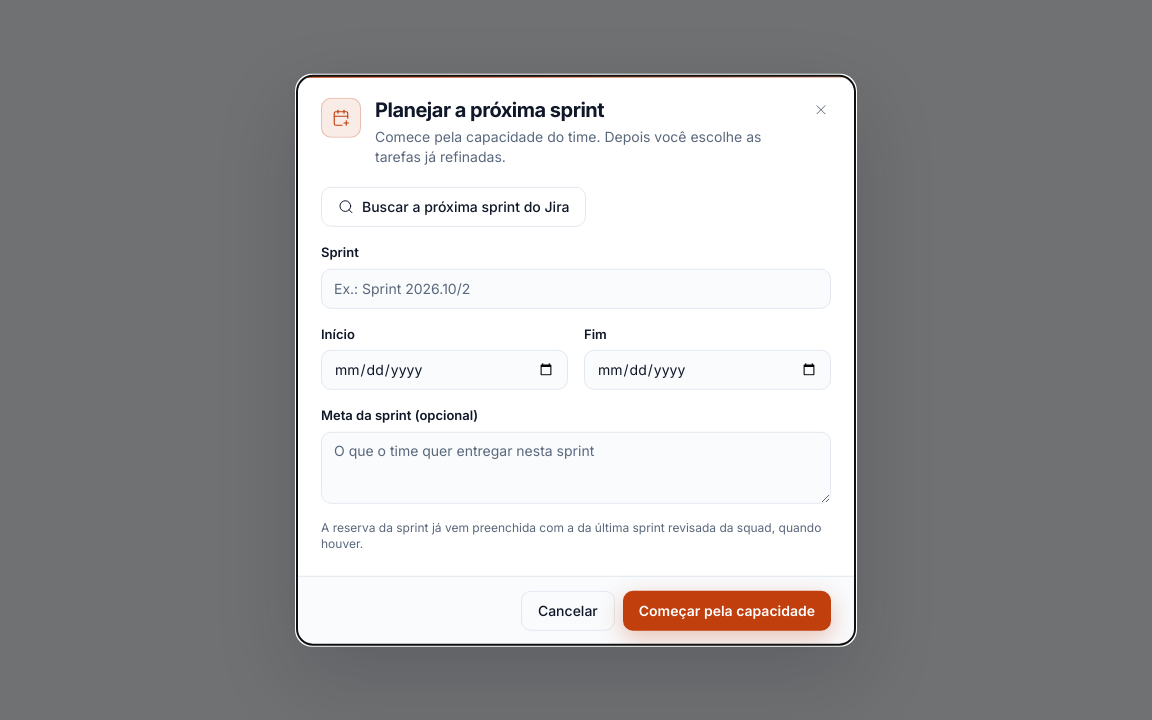
Criar plano › 409 (a sprint já tem plano) mostra a mensagem do servidor
The width and height of the screenshot is (1152, 720).
Type "S" into the field with placeholder "Ex.: Sprint 2026.10/2".
click(576, 288); type("S")  # box [321,268,831,308]
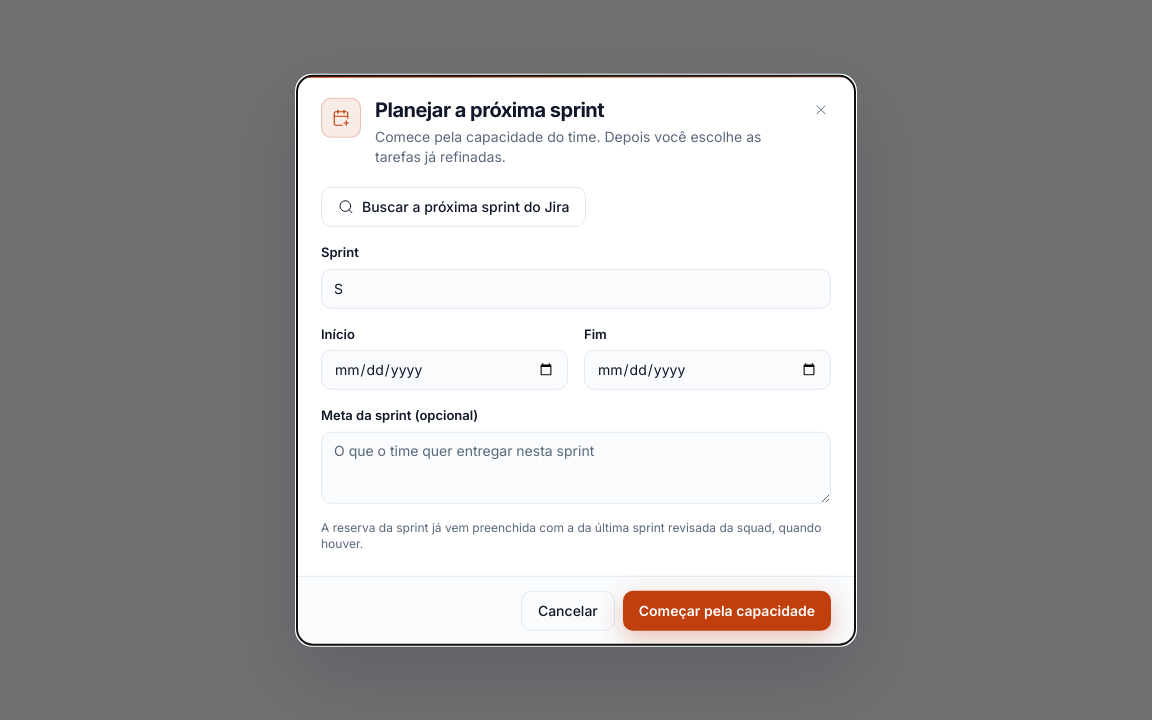
Type "2026-10-21" into the date field labelled "Início".
click(444, 370); type("2026-10-21")  # box [321,350,568,390]
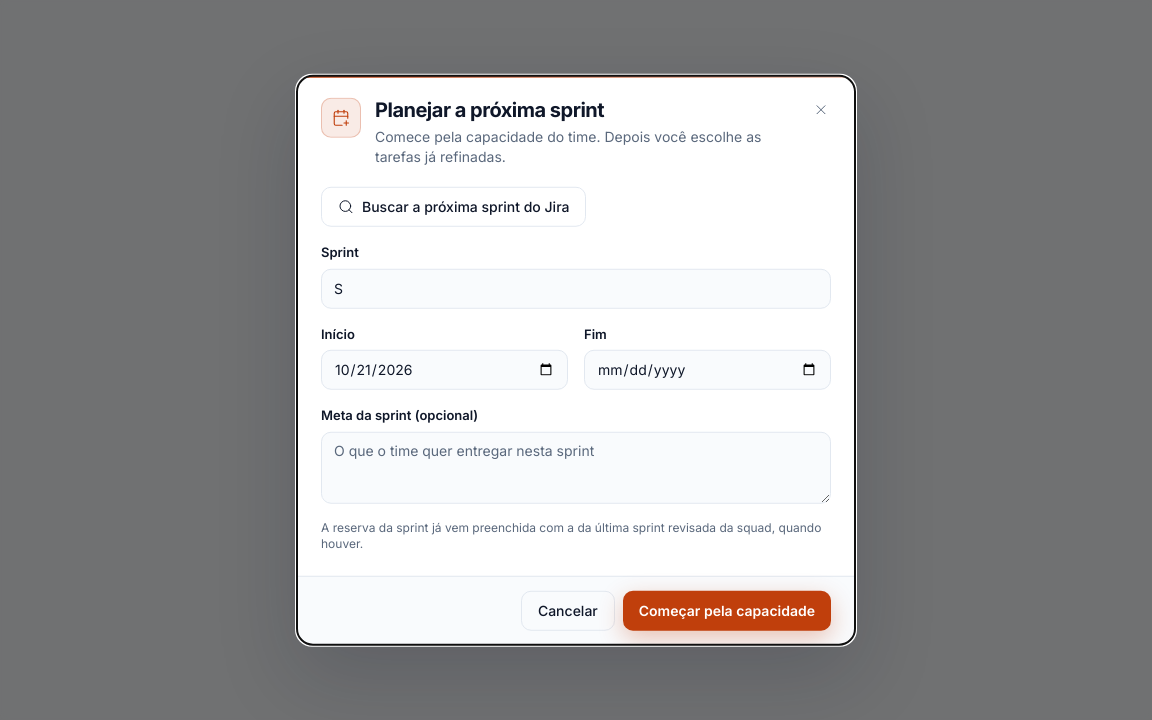
Type "2026-11-03" into the date field labelled "Fim".
click(708, 370); type("2026-11-03")  # box [584,350,831,390]
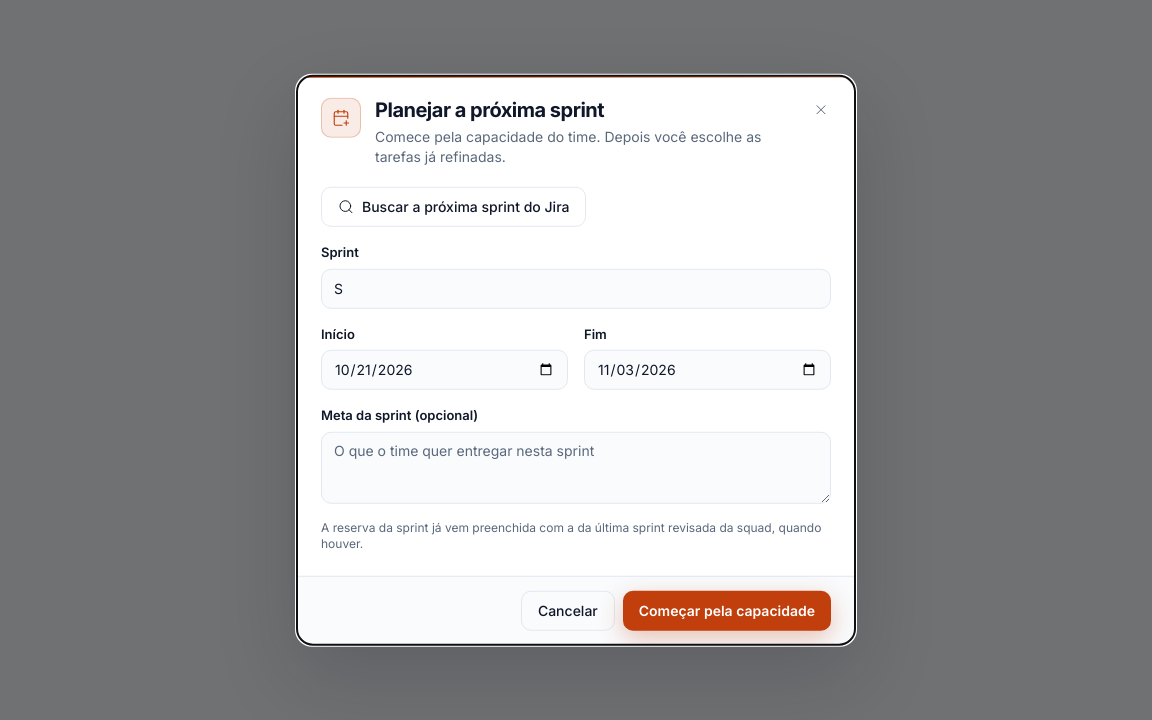
Click the button "Começar pela capacidade".
click(727, 610)  # box [623,590,831,630]
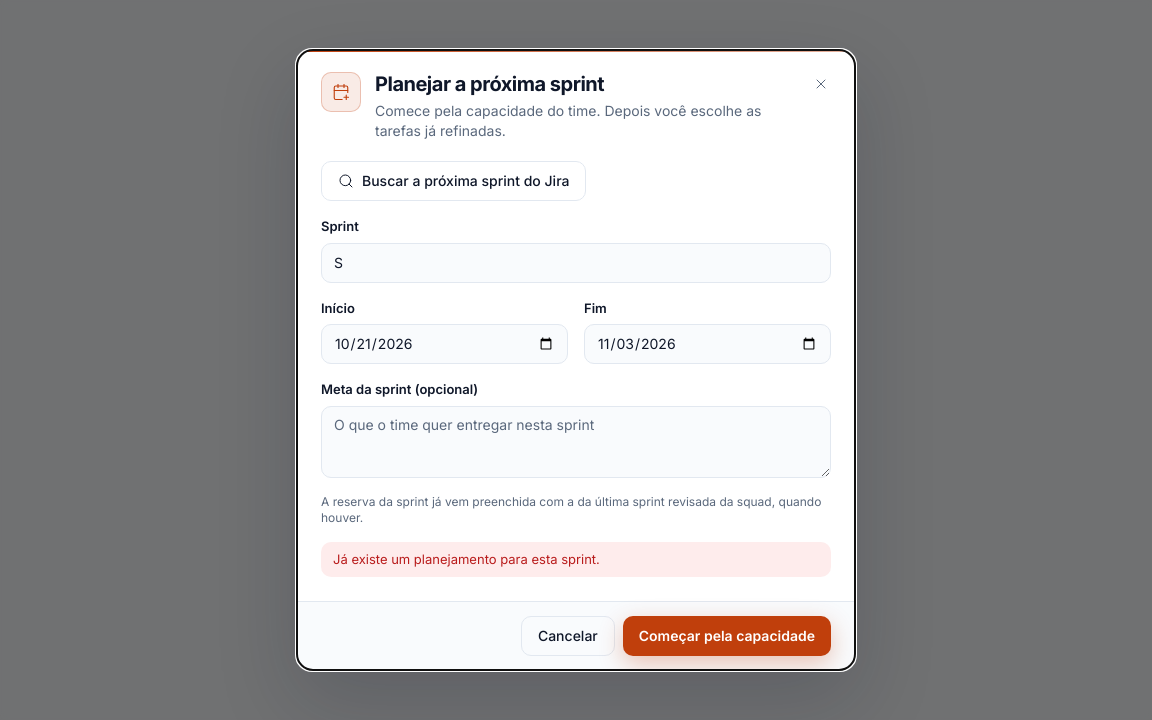
Expected: the message reads "Já existe um planejamento para esta sprint.", [333,550,600,566]
